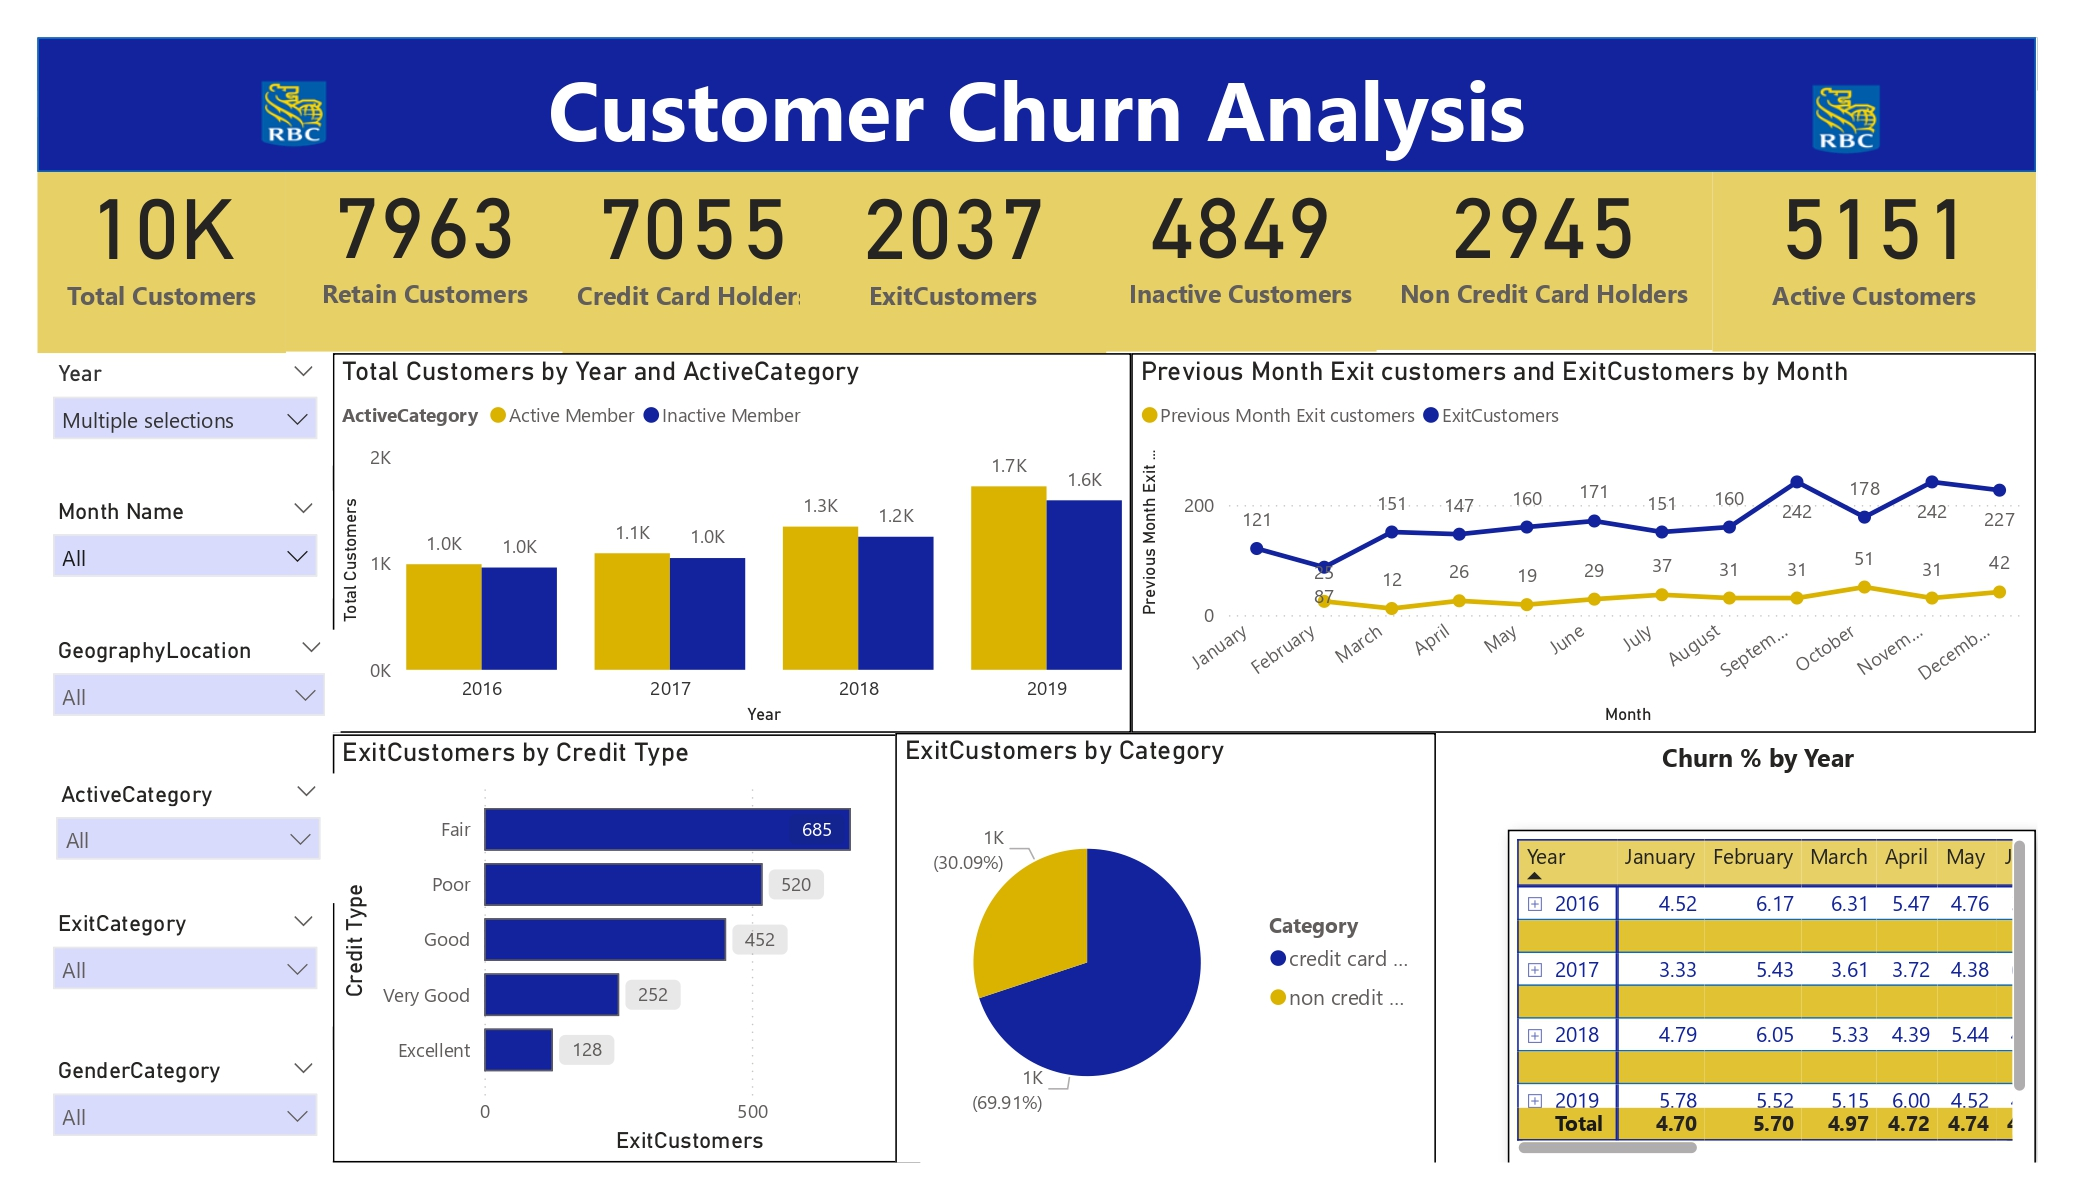

What the dashboard file says about the page in this screenshot:
{"tool":"powerbi","page":{"name":"Page 1","canvas":[1280,720],"ordinal":0},"visuals":[{"type":"card","fields":{"Values":["Measures Table.Total Customers"]},"box":[0,51,158.7,151.2],"z":0},{"type":"card","fields":{"Values":["Measures Table.Retain Customers"]},"box":[158.7,50.2,178.1,150.6],"z":1000},{"type":"card","fields":{"Values":["Measures Table.Credit Card Holders"]},"box":[336.4,51,166.3,151.2],"z":2000},{"type":"card","fields":{"Values":["Measures Table.ExitCustomers"]},"box":[487.6,51,196.5,151.2],"z":3000},{"type":"card","fields":{"Values":["Measures Table.Inactive Customers"]},"box":[683.3,50.2,173.3,150.6],"z":4000},{"type":"card","fields":{"Values":["Measures Table.Non Credit Card Holders"]},"box":[856.1,51,215.4,149.3],"z":5000},{"type":"card","fields":{"Values":["Measures Table.Active Customers"]},"box":[1071.9,51.8,207.3,149],"z":6000},{"type":"shape","box":[0,0,1279.2,85.8],"z":7000},{"type":"textbox","box":[940.8,445.3,325.5,37.2],"z":8000},{"type":"clusteredColumnChart","fields":{"Category":["DateMaster.Year","DateMaster.Month Name"],"Y":["Measures Table.Total Customers"],"Series":["ActiveCustomer.ActiveCategory"]},"box":[189.4,202.4,510.1,242.9],"z":9000},{"type":"lineChart","fields":{"Category":["DateMaster.Date.Variation.Date Hierarchy.Month"],"Y":["Measures Table.Previous Month Exit customers","Measures Table.ExitCustomers"]},"box":[699.5,202.4,579.7,242.9],"z":10000},{"type":"clusteredBarChart","fields":{"Y":["Measures Table.ExitCustomers"],"Category":["Bank_Churn.Credit Type"]},"box":[189,446,376.1,274],"z":11000},{"type":"slicer","fields":{"Values":["DateMaster.Year"]},"box":[0,202.4,189.4,71.2],"z":12000},{"type":"pieChart","fields":{"Y":["Measures Table.ExitCustomers"],"Category":["CreditCard.Category"]},"box":[548.9,445.3,346.5,275.3],"z":13000},{"type":"pivotTable","fields":{"Rows":["DateMaster.Date.Variation.Date Hierarchy.Year","DateMaster.Date.Variation.Date Hierarchy.Quarter","DateMaster.Date.Variation.Date Hierarchy.Month","DateMaster.Date.Variation.Date Hierarchy.Day"],"Columns":["DateMaster.Date.Variation.Date Hierarchy.Month"],"Values":["Measures Table.churn %"]},"box":[940.8,506.8,338.4,213.7],"z":14000},{"type":"slicer","fields":{"Values":["DateMaster.Month Name"]},"box":[0,289.8,189.4,69.6],"z":15000},{"type":"slicer","fields":{"Values":["Geography.GeographyLocation"]},"box":[0,378.9,194.3,66.4],"z":16000},{"type":"slicer","fields":{"Values":["ActiveCustomer.ActiveCategory"]},"box":[1.6,471.2,189.4,82.6],"z":17000},{"type":"slicer","fields":{"Values":["ExitCustomer (1).ExitCategory"]},"box":[0,553.8,189.4,79.3],"z":18000},{"type":"slicer","fields":{"Values":["Gender xlsx.GenderCategory"]},"box":[0,647.7,189.4,71.2],"z":19000},{"type":"image","box":[8.1,11.3,312.5,74.5],"z":20000},{"type":"image","box":[1036.3,13,242.9,77.7],"z":20001}]}

Visuals, with their boxes in screenshot pixels (x1, y1, x2, y2):
card - Measures Table.Total Customers: (left=54, top=116, right=299, bottom=350)
card - Measures Table.Retain Customers: (left=299, top=115, right=573, bottom=347)
card - Measures Table.Credit Card Holders: (left=573, top=116, right=829, bottom=350)
card - Measures Table.ExitCustomers: (left=806, top=116, right=1109, bottom=350)
card - Measures Table.Inactive Customers: (left=1108, top=115, right=1375, bottom=347)
card - Measures Table.Non Credit Card Holders: (left=1374, top=116, right=1706, bottom=347)
card - Measures Table.Active Customers: (left=1707, top=118, right=2027, bottom=347)
shape: (left=54, top=38, right=2027, bottom=170)
textbox: (left=1505, top=724, right=2007, bottom=782)
clusteredColumnChart - DateMaster.Year x DateMaster.Month Name: (left=346, top=350, right=1133, bottom=724)
lineChart - DateMaster.Date.Variation.Date Hierarchy.Month x Measures Table.Previous Month Exit customers: (left=1133, top=350, right=2027, bottom=724)
clusteredBarChart - Measures Table.ExitCustomers x Bank_Churn.Credit Type: (left=345, top=726, right=925, bottom=1148)
slicer - DateMaster.Year: (left=54, top=350, right=346, bottom=460)
pieChart - Measures Table.ExitCustomers x CreditCard.Category: (left=900, top=724, right=1435, bottom=1149)
pivotTable - DateMaster.Date.Variation.Date Hierarchy.Year x DateMaster.Date.Variation.Date Hierarchy.Quarter: (left=1505, top=819, right=2027, bottom=1149)
slicer - DateMaster.Month Name: (left=54, top=485, right=346, bottom=592)
slicer - Geography.GeographyLocation: (left=54, top=622, right=354, bottom=724)
slicer - ActiveCustomer.ActiveCategory: (left=57, top=764, right=349, bottom=892)
slicer - ExitCustomer (1).ExitCategory: (left=54, top=892, right=346, bottom=1014)
slicer - Gender xlsx.GenderCategory: (left=54, top=1037, right=346, bottom=1146)
image: (left=67, top=55, right=548, bottom=170)
image: (left=1652, top=58, right=2027, bottom=178)
